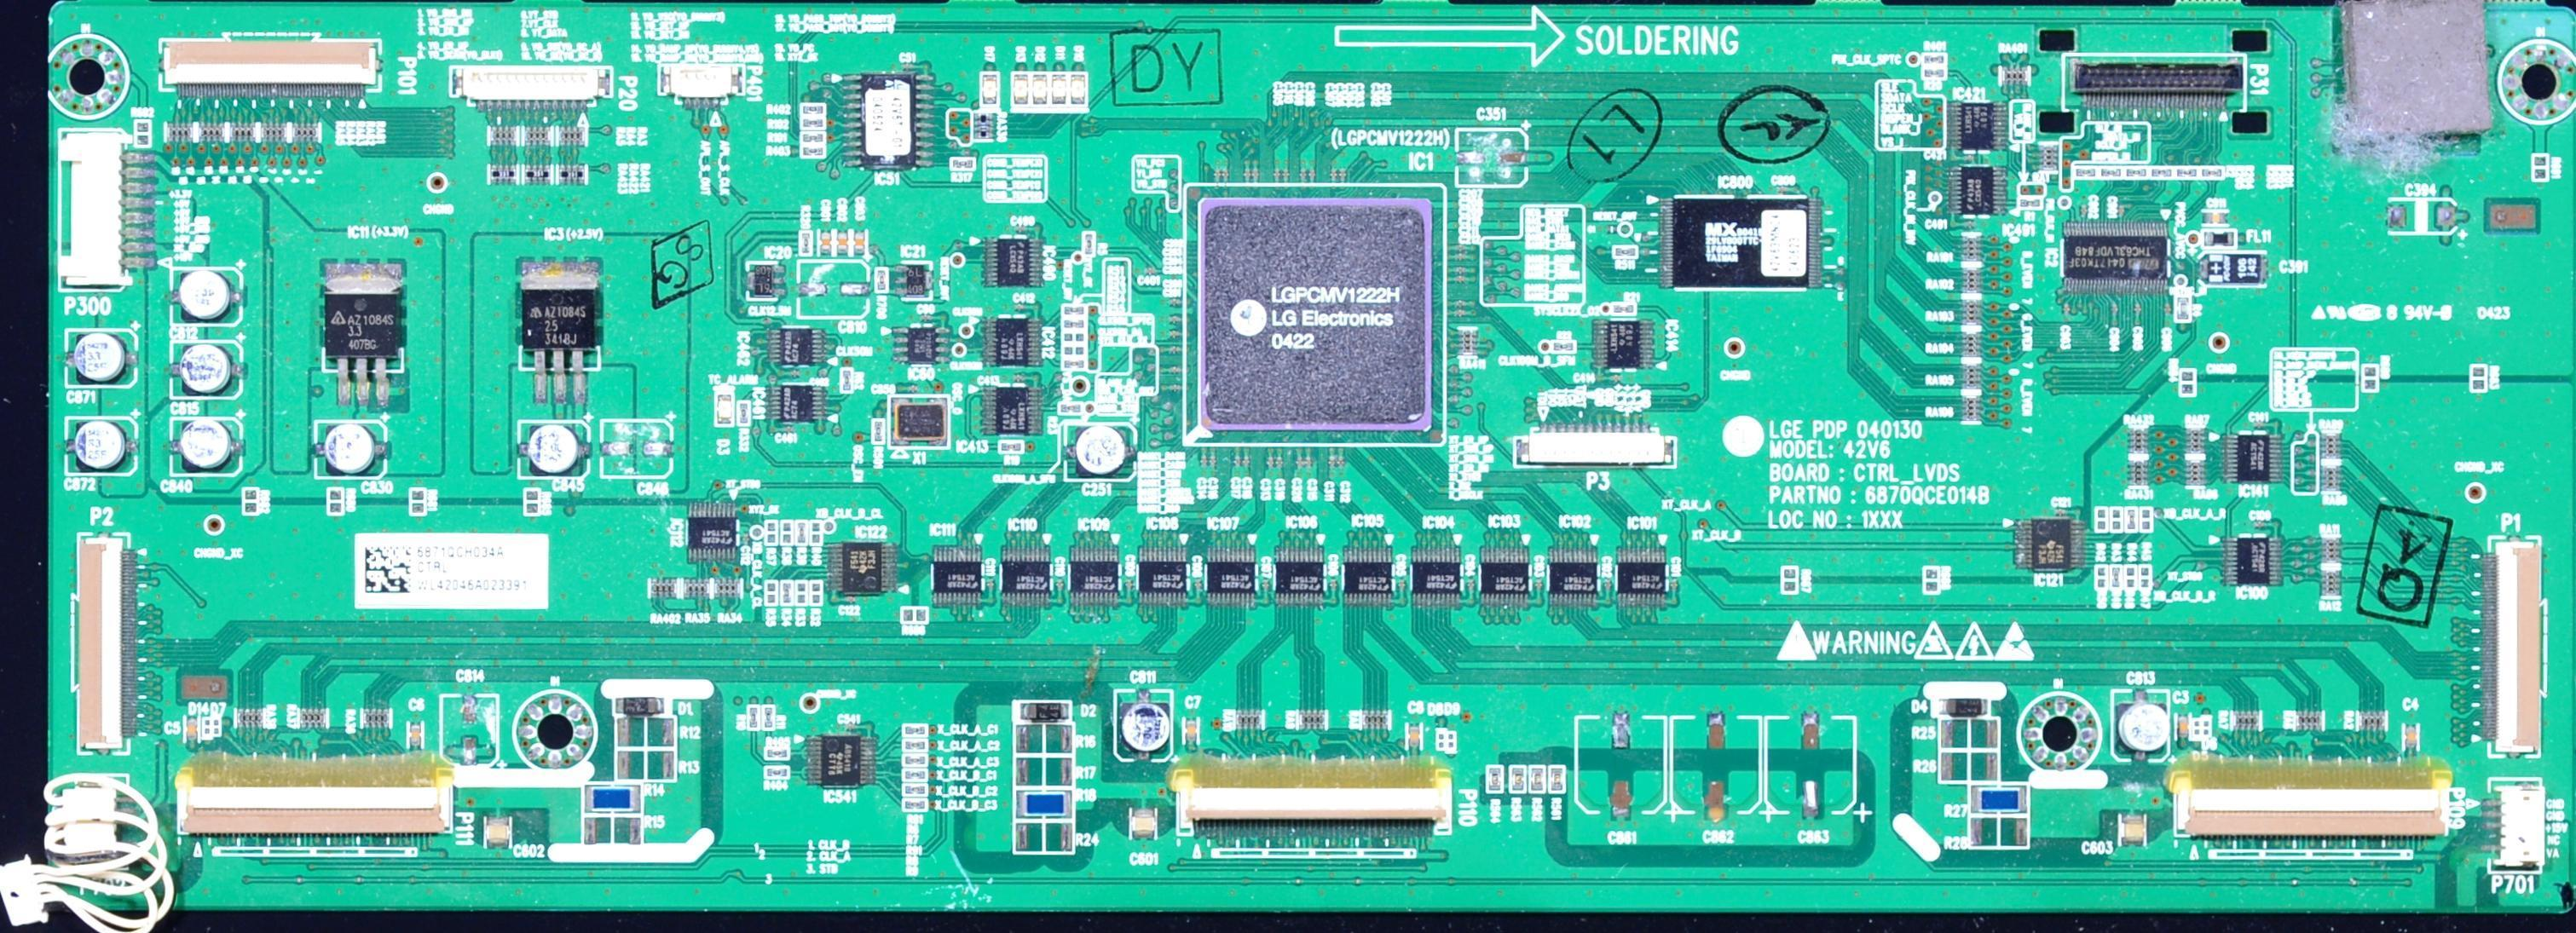Capacitor: (1459, 130, 1526, 183), (604, 423, 671, 476), (2116, 693, 2170, 757), (318, 423, 378, 478), (1118, 693, 1170, 754), (174, 272, 232, 323), (74, 332, 126, 383), (529, 423, 578, 476), (182, 345, 230, 395), (182, 420, 228, 473), (77, 421, 124, 473), (1078, 428, 1123, 477), (1801, 714, 1822, 815), (2388, 203, 2458, 229), (1612, 714, 1630, 808), (1709, 714, 1724, 814), (462, 695, 479, 766), (484, 815, 511, 851), (800, 282, 869, 296), (1130, 809, 1157, 841), (2121, 814, 2146, 844), (407, 722, 424, 750), (1184, 718, 1199, 745), (1408, 723, 1422, 749), (836, 231, 849, 256), (2203, 213, 2228, 225), (819, 231, 832, 256), (2179, 715, 2189, 742), (2406, 726, 2418, 750), (853, 232, 864, 253)
Connector: (1173, 752, 1448, 853), (181, 762, 455, 849), (2176, 764, 2441, 849), (61, 126, 154, 292), (76, 534, 140, 756), (158, 41, 386, 100), (2484, 539, 2542, 769), (2062, 56, 2248, 120), (1517, 423, 1672, 470), (2488, 786, 2545, 874)
IC: (1187, 187, 1442, 442), (1661, 195, 1822, 288), (321, 259, 409, 405), (517, 259, 604, 403), (841, 71, 936, 170), (2063, 222, 2172, 296), (2015, 520, 2086, 570), (829, 544, 898, 593), (806, 739, 872, 786), (1592, 319, 1653, 370), (984, 239, 1046, 287), (1206, 547, 1256, 605), (1948, 101, 2007, 151), (982, 386, 1042, 435), (1617, 547, 1666, 606), (1343, 547, 1394, 607), (689, 500, 736, 561), (933, 545, 981, 606), (1412, 547, 1462, 605), (1548, 547, 1597, 605), (1275, 545, 1323, 605), (1481, 547, 1528, 607), (985, 319, 1041, 366), (2226, 435, 2283, 483), (1140, 546, 1186, 607), (1949, 166, 2006, 214), (2225, 538, 2281, 586), (1002, 548, 1050, 605), (1071, 547, 1117, 605), (770, 329, 826, 366), (896, 327, 953, 363), (767, 389, 824, 423), (748, 262, 787, 297), (896, 265, 930, 297)
Resistor: (1941, 720, 1997, 748), (1941, 754, 1996, 781), (1971, 785, 2026, 814), (1972, 818, 2026, 845), (1015, 758, 1072, 786), (1015, 726, 1071, 752), (1018, 824, 1071, 851), (1017, 792, 1071, 817), (1297, 709, 1327, 732), (974, 112, 997, 137), (490, 125, 517, 146), (1360, 711, 1390, 731), (1235, 711, 1264, 730), (238, 706, 263, 728), (557, 164, 584, 183), (2129, 460, 2148, 486), (2359, 711, 2386, 730), (2234, 711, 2261, 730), (559, 126, 586, 145), (230, 124, 254, 142), (2321, 538, 2341, 562), (901, 608, 929, 625), (300, 709, 326, 729), (198, 124, 224, 141), (714, 579, 741, 597), (2362, 366, 2379, 394), (2186, 426, 2203, 453), (168, 123, 192, 141), (261, 123, 286, 141), (526, 128, 551, 146), (2040, 146, 2059, 170), (491, 166, 517, 183), (526, 166, 551, 184), (2130, 428, 2148, 452), (651, 579, 676, 597), (2296, 711, 2322, 729), (293, 124, 318, 140), (2532, 155, 2548, 181), (1963, 234, 1979, 262), (1964, 267, 1980, 292), (2470, 365, 2487, 391), (2323, 434, 2340, 459), (1530, 767, 1545, 793), (1550, 767, 1566, 793), (2322, 468, 2341, 490), (1963, 366, 1981, 389), (1962, 395, 1979, 419), (2186, 461, 2205, 485), (2323, 571, 2341, 595), (2175, 295, 2191, 322), (1963, 300, 1980, 325), (1460, 331, 1477, 355), (1963, 331, 1979, 356), (328, 488, 344, 513), (242, 488, 258, 513), (684, 579, 710, 596), (363, 709, 388, 727), (1510, 767, 1526, 792), (2181, 368, 2196, 395), (1924, 567, 1939, 593), (902, 724, 927, 739), (2003, 68, 2025, 84), (2139, 564, 2151, 591), (747, 704, 761, 730), (136, 122, 150, 146), (1062, 331, 1087, 344), (525, 489, 540, 515), (410, 489, 426, 515), (2095, 565, 2109, 590), (765, 748, 790, 762), (765, 766, 790, 780), (1487, 767, 1502, 792), (2124, 166, 2150, 179), (872, 419, 886, 445), (2111, 565, 2124, 591), (902, 740, 927, 752), (902, 754, 928, 768), (903, 769, 928, 781), (902, 798, 927, 811), (1782, 568, 1797, 591), (801, 130, 827, 142), (950, 158, 975, 170), (2150, 166, 2175, 179), (1000, 441, 1025, 455), (2095, 508, 2108, 533), (781, 521, 793, 545), (810, 521, 823, 545), (781, 582, 793, 607), (761, 705, 774, 729), (800, 145, 826, 156), (737, 402, 751, 425), (794, 521, 808, 544), (765, 521, 777, 544), (2125, 565, 2137, 591), (903, 784, 927, 796), (2074, 167, 2098, 180), (2175, 167, 2199, 179), (800, 232, 812, 256), (840, 368, 853, 393), (2140, 508, 2151, 533), (796, 581, 808, 606), (765, 582, 777, 606), (802, 117, 825, 129), (2099, 167, 2123, 179), (2201, 167, 2225, 180), (1614, 247, 1637, 257), (876, 268, 887, 291), (1613, 304, 1636, 315), (1063, 318, 1086, 329), (1552, 342, 1575, 353), (1062, 345, 1086, 356), (1063, 357, 1085, 368), (1059, 403, 1082, 414), (2111, 507, 2123, 531), (2125, 508, 2138, 531), (811, 582, 822, 605), (1923, 67, 1946, 78), (1065, 305, 1085, 317), (802, 105, 824, 115), (1923, 55, 1945, 65), (757, 706, 759, 707)
